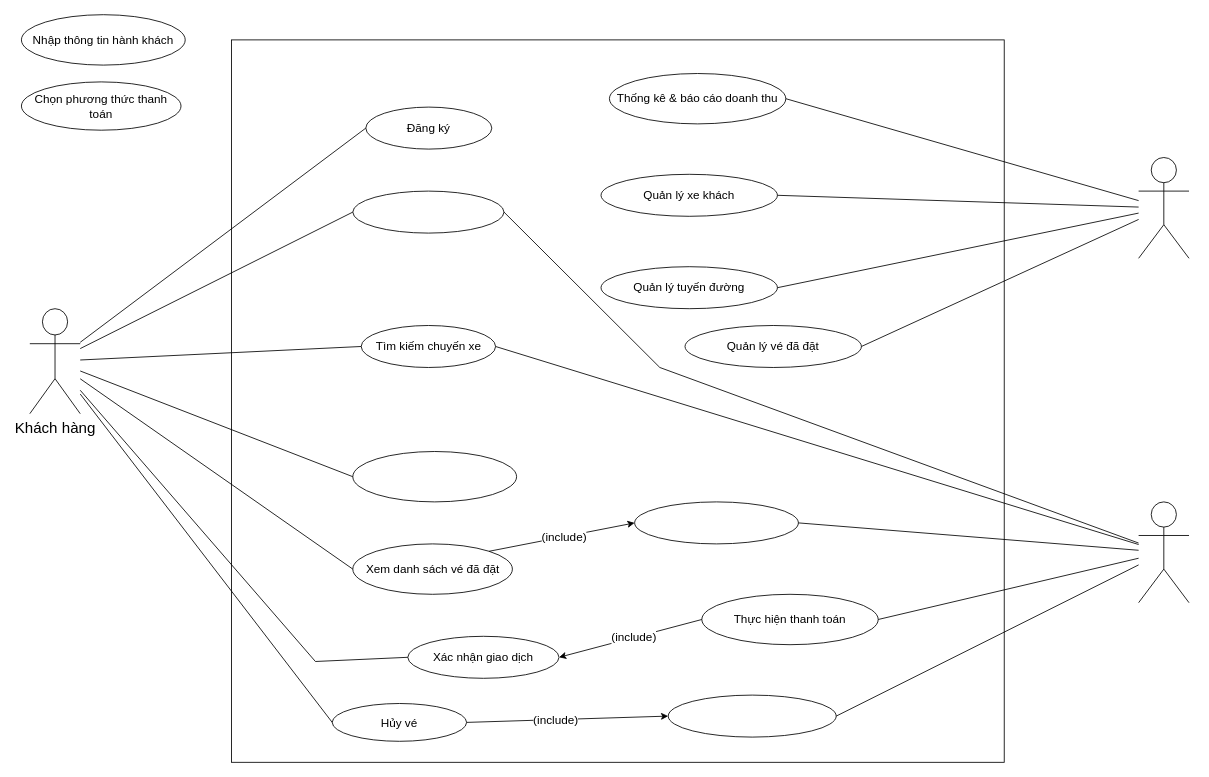
Image size: 1209x777. Some labels were removed from this diagram. The centre of each missing label's shape, as x and y in pixels:
"Cập nhật thông tin cá nhân" belongs at point 434,476.
"Hoàn tiền (nếu có)" belongs at point 751,715.
"Hệ thống" belongs at point 1163,552.
"Lọc & sắp xếp kết quả" belongs at point 716,522.
"Quản lí" belongs at point 1163,207.
"Đặt vé" belongs at point 428,211.
